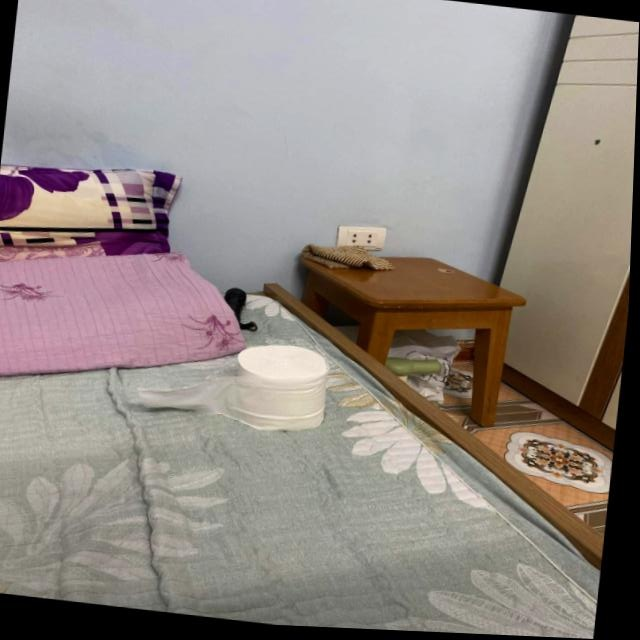outlet: (336, 221, 389, 253)
